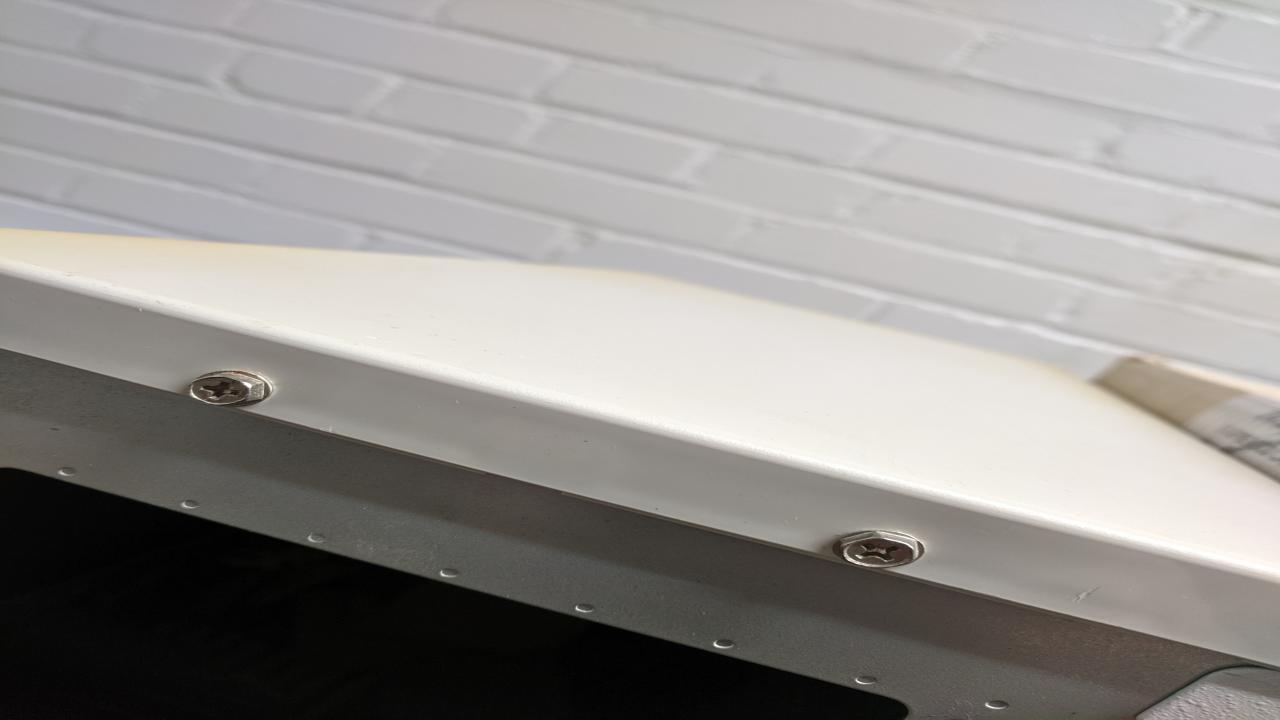CRS: (832, 530, 922, 568), (182, 370, 270, 408)
